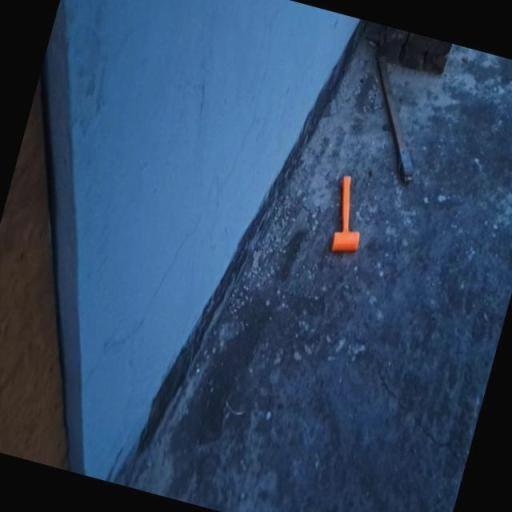mallet: (324, 174, 375, 259)
